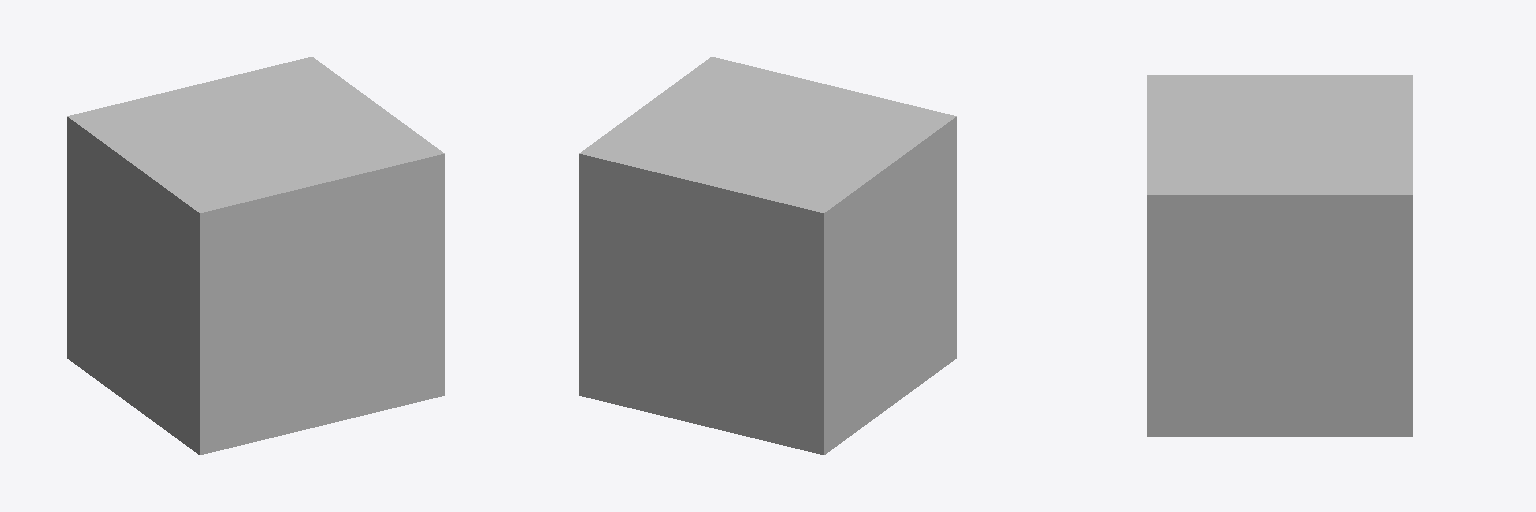
Rendered from room.obj.
3 views of the same model, side by side, from view 1: azimuth 30°, elevation 25°; view 2: azimuth 150°, elevation 25°; view 3: azimuth 270°, elevation 25° (orthographic).
Parts seen in each view (by area): view 1: group[number redacted], group[number redacted], group[number redacted], group[number redacted], group[number redacted]; view 2: group[number redacted], group[number redacted], group[number redacted], group[number redacted], group[number redacted]; view 3: group[number redacted], group[number redacted], group[number redacted], group[number redacted].
Part boxes in pixels (left/top/right/bottom): group[number redacted]: left=212, top=159, right=432, bottom=439; group[number redacted]: left=67, top=113, right=211, bottom=451; group[number redacted]: left=80, top=60, right=442, bottom=219; group[number redacted]: left=300, top=57, right=444, bottom=385; group[number redacted]: left=67, top=346, right=444, bottom=454; group[number redacted]: left=591, top=166, right=816, bottom=450; group[number redacted]: left=812, top=113, right=956, bottom=451; group[number redacted]: left=591, top=60, right=943, bottom=220; group[number redacted]: left=579, top=57, right=723, bottom=386; group[number redacted]: left=579, top=348, right=956, bottom=454; group[number redacted]: left=1147, top=189, right=1412, bottom=423; group[number redacted]: left=1147, top=81, right=1412, bottom=188; group[number redacted]: left=1147, top=424, right=1412, bottom=436; group[number redacted]: left=1147, top=75, right=1412, bottom=80.
Size of the model in its own units: 1.6 by 1.51 by 1.5.